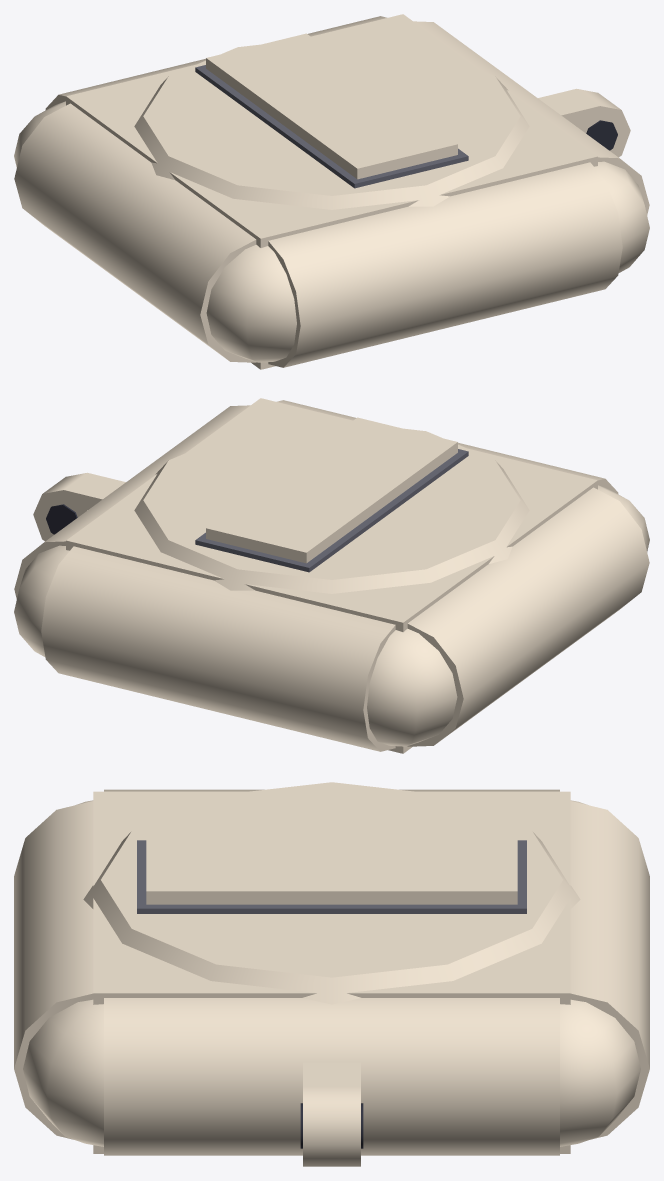
Rendered from asset.glb.
3 renders of one model, top to bottom at view 1: azimuth 30°, elevation 25°; view 2: azimuth 150°, elevation 25°; view 3: azimuth 270°, elevation 25°, orthographic. The views are drawn at different scales.
Parts seen in each view (by area): view 1: Mesh_Bulge_Z_Pos, Mesh_TopCrown, Mesh_Bulge_X_Neg, Mesh_SlitWeltRim, Mesh_CushionCore, Mesh_CornerSph_-1_1, Mesh_Bulge_X_Pos, Mesh_StitchRing, Mesh_CornerSph_1_1, Mesh_LoopStrapTop, Mesh_LoopEndFold, Mesh_Bulge_Z_Neg (+2 smaller); view 2: Mesh_Bulge_Z_Neg, Mesh_TopCrown, Mesh_Bulge_X_Neg, Mesh_SlitWeltRim, Mesh_CushionCore, Mesh_CornerSph_-1_-1, Mesh_Bulge_X_Pos, Mesh_StitchRing, Mesh_CornerSph_1_-1, Mesh_LoopStrapTop, Mesh_LoopEndFold, Mesh_Bulge_Z_Pos (+2 smaller); view 3: Mesh_Bulge_X_Pos, Mesh_TopCrown, Mesh_SlitWeltRim, Mesh_CushionCore, Mesh_Bulge_Z_Pos, Mesh_Bulge_Z_Neg, Mesh_CornerSph_1_1, Mesh_CornerSph_1_-1, Mesh_StitchRing, Mesh_LoopEndFold, Mesh_LoopStrapTop, Mesh_Bulge_X_Neg.
Part boxes in pixels (bbox=[...]): Mesh_Bulge_Z_Pos: bbox=[268, 162, 622, 367]; Mesh_TopCrown: bbox=[134, 36, 529, 209]; Mesh_Bulge_X_Neg: bbox=[14, 103, 256, 362]; Mesh_SlitWeltRim: bbox=[206, 33, 457, 179]; Mesh_CushionCore: bbox=[66, 14, 597, 369]; Mesh_CornerSph_-1_1: bbox=[206, 244, 296, 362]; Mesh_Bulge_X_Pos: bbox=[413, 21, 649, 215]; Mesh_StitchRing: bbox=[195, 65, 468, 188]; Mesh_CornerSph_1_1: bbox=[594, 161, 649, 272]; Mesh_LoopStrapTop: bbox=[538, 89, 600, 125]; Mesh_LoopEndFold: bbox=[576, 89, 630, 157]; Mesh_Bulge_Z_Neg: bbox=[45, 16, 387, 110]; Mesh_Bulge_Z_Neg: bbox=[41, 546, 395, 751]; Mesh_TopCrown: bbox=[134, 420, 529, 593]; Mesh_Bulge_X_Neg: bbox=[407, 487, 649, 746]; Mesh_SlitWeltRim: bbox=[206, 417, 457, 563]; Mesh_CushionCore: bbox=[66, 398, 597, 753]; Mesh_CornerSph_-1_-1: bbox=[367, 628, 457, 746]; Mesh_Bulge_X_Pos: bbox=[14, 405, 250, 599]; Mesh_StitchRing: bbox=[195, 449, 468, 572]; Mesh_CornerSph_1_-1: bbox=[14, 545, 69, 656]; Mesh_LoopStrapTop: bbox=[63, 473, 125, 509]; Mesh_LoopEndFold: bbox=[33, 473, 87, 541]; Mesh_Bulge_Z_Pos: bbox=[276, 400, 618, 494]; Mesh_Bulge_X_Pos: bbox=[104, 998, 559, 1155]; Mesh_TopCrown: bbox=[83, 782, 580, 1004]; Mesh_SlitWeltRim: bbox=[146, 831, 517, 904]; Mesh_CushionCore: bbox=[93, 791, 570, 1153]; Mesh_Bulge_Z_Pos: bbox=[14, 801, 93, 1139]; Mesh_Bulge_Z_Neg: bbox=[570, 801, 649, 1139]; Mesh_CornerSph_1_1: bbox=[23, 999, 103, 1146]; Mesh_CornerSph_1_-1: bbox=[560, 999, 640, 1146]; Mesh_StitchRing: bbox=[137, 840, 526, 913]; Mesh_LoopEndFold: bbox=[303, 1086, 360, 1166]; Mesh_LoopStrapTop: bbox=[303, 1062, 360, 1086]; Mesh_Bulge_X_Neg: bbox=[104, 789, 559, 791].
Bounding box in the file's own units: 0.3006 × 0.0878 × 0.264.
